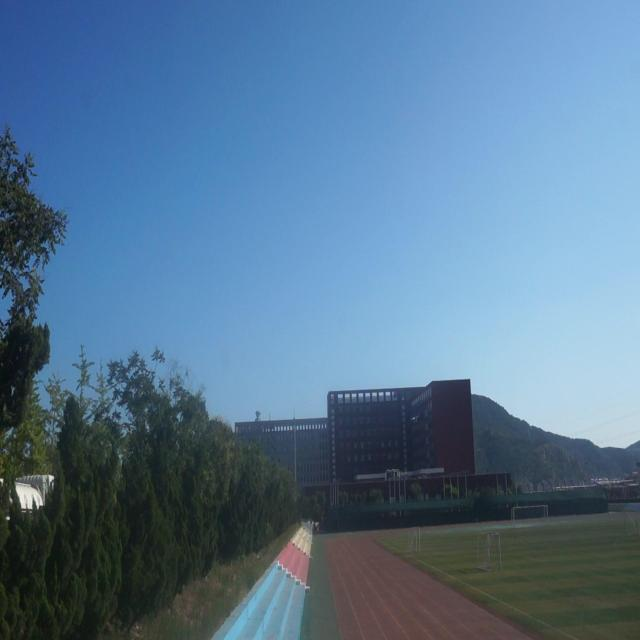drone: (408, 410, 422, 424)
